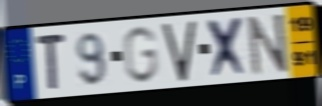9: (74, 30, 109, 88)
G: (121, 24, 160, 85)
N: (246, 11, 291, 78)
T: (34, 32, 68, 92)
V: (160, 18, 198, 84)
X: (205, 14, 251, 80)
